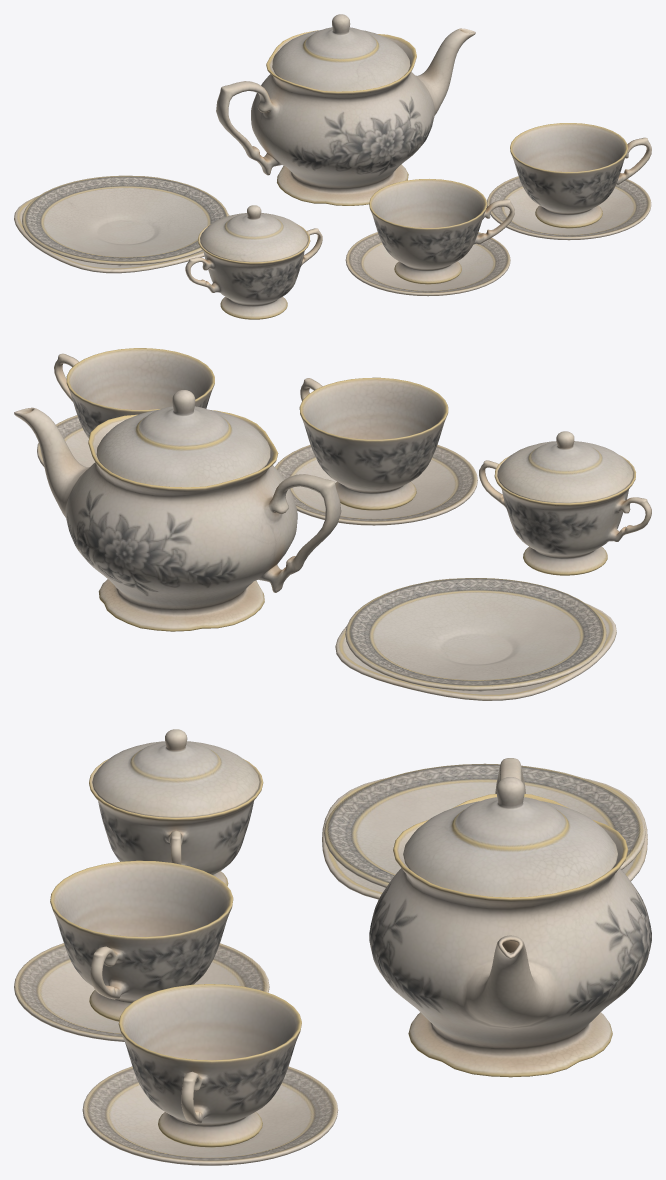
The model's file is afternoon-tea.glb.
3 renders of one model, top to bottom at view 1: azimuth 30°, elevation 25°; view 2: azimuth 150°, elevation 25°; view 3: azimuth 270°, elevation 25°, orthographic. The views are drawn at different scales.
Visible parts, largest first — view 1: tea_set_01_teapot_01, tea_set_01_plate_large_circular_03, tea_set_01_cup_small_02, tea_set_01_cup_small_01, tea_set_01_teapot_01_lid, tea_set_01_sugar_cup_01, tea_set_01_saucer_circular_04, tea_set_01_saucer_circular_03, tea_set_01_sugar_cup_01_lid, tea_set_01_plate_large_square_01; view 2: tea_set_01_teapot_01, tea_set_01_plate_large_circular_03, tea_set_01_cup_small_02, tea_set_01_teapot_01_lid, tea_set_01_cup_small_01, tea_set_01_sugar_cup_01, tea_set_01_sugar_cup_01_lid, tea_set_01_saucer_circular_04, tea_set_01_plate_large_square_01, tea_set_01_saucer_circular_03; view 3: tea_set_01_teapot_01, tea_set_01_cup_small_01, tea_set_01_cup_small_02, tea_set_01_teapot_01_lid, tea_set_01_plate_large_circular_03, tea_set_01_saucer_circular_03, tea_set_01_sugar_cup_01_lid, tea_set_01_sugar_cup_01, tea_set_01_saucer_circular_04, tea_set_01_plate_large_square_01.
Boxes of the visible parts, bbox=[...] form: tea_set_01_teapot_01: bbox=[216, 28, 475, 205]; tea_set_01_plate_large_circular_03: bbox=[22, 175, 228, 265]; tea_set_01_cup_small_02: bbox=[369, 179, 514, 284]; tea_set_01_cup_small_01: bbox=[510, 123, 651, 228]; tea_set_01_teapot_01_lid: bbox=[272, 14, 410, 91]; tea_set_01_sugar_cup_01: bbox=[185, 224, 322, 319]; tea_set_01_saucer_circular_04: bbox=[345, 232, 510, 296]; tea_set_01_saucer_circular_03: bbox=[487, 176, 651, 240]; tea_set_01_sugar_cup_01_lid: bbox=[200, 205, 307, 262]; tea_set_01_plate_large_square_01: bbox=[14, 176, 229, 273]; tea_set_01_teapot_01: bbox=[14, 407, 341, 631]; tea_set_01_plate_large_circular_03: bbox=[345, 578, 606, 690]; tea_set_01_cup_small_02: bbox=[299, 377, 448, 510]; tea_set_01_teapot_01_lid: bbox=[96, 390, 270, 487]; tea_set_01_cup_small_01: bbox=[54, 348, 214, 438]; tea_set_01_sugar_cup_01: bbox=[479, 455, 651, 575]; tea_set_01_sugar_cup_01_lid: bbox=[497, 431, 633, 503]; tea_set_01_saucer_circular_04: bbox=[275, 444, 477, 525]; tea_set_01_plate_large_square_01: bbox=[335, 578, 616, 700]; tea_set_01_saucer_circular_03: bbox=[37, 415, 94, 467]; tea_set_01_teapot_01: bbox=[369, 758, 651, 1077]; tea_set_01_cup_small_01: bbox=[118, 984, 301, 1147]; tea_set_01_cup_small_02: bbox=[50, 860, 233, 1021]; tea_set_01_teapot_01_lid: bbox=[403, 777, 617, 897]; tea_set_01_plate_large_circular_03: bbox=[324, 763, 645, 887]; tea_set_01_saucer_circular_03: bbox=[82, 1066, 338, 1165]; tea_set_01_sugar_cup_01_lid: bbox=[92, 729, 259, 817]; tea_set_01_sugar_cup_01: bbox=[89, 759, 263, 885]; tea_set_01_saucer_circular_04: bbox=[14, 943, 269, 1041]; tea_set_01_plate_large_square_01: bbox=[322, 778, 647, 899].
Size of the model in its own units: 0.5423 by 0.1643 by 0.3719.
Materials: 1 (1 with a texture image).
